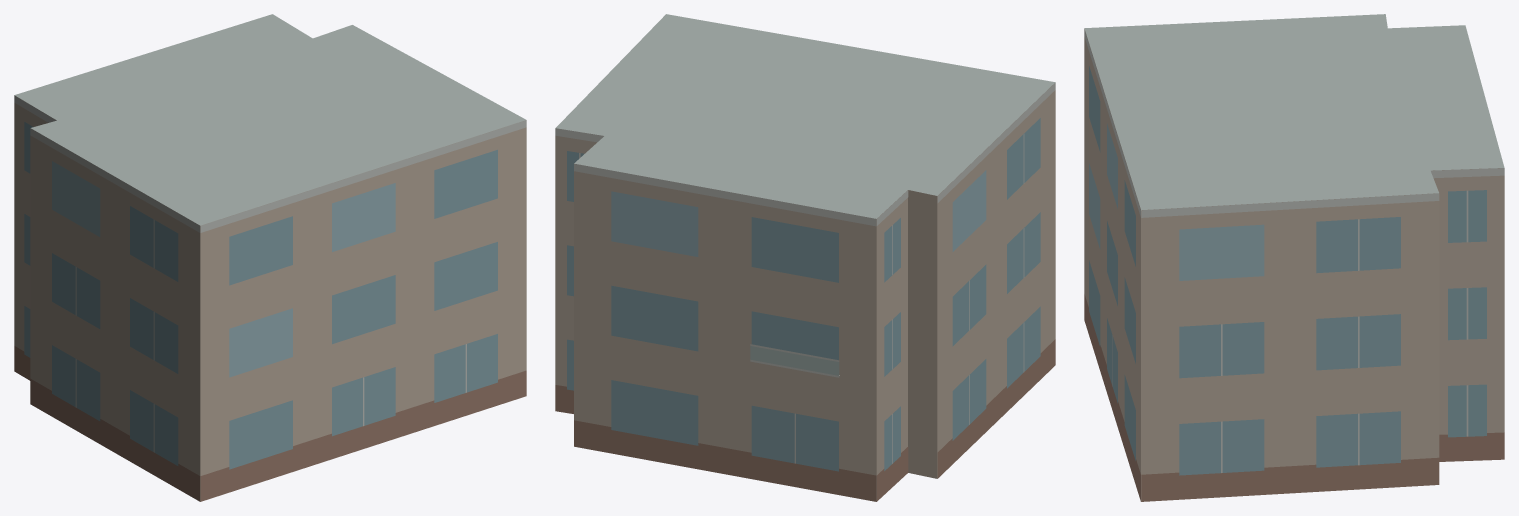
The model's file is survey-upis-32946276.glb.
3 views of the same model, side by side, from view 1: azimuth 30°, elevation 25°; view 2: azimuth 150°, elevation 25°; view 3: azimuth 270°, elevation 25° (orthographic). The views are drawn at different scales.
Parts seen in each view (by area): view 1: survey-upis-32946276.tmp; view 2: survey-upis-32946276.tmp; view 3: survey-upis-32946276.tmp.
Boxes of the visible parts, x1,y1,x2,y2 form: survey-upis-32946276.tmp: (14,14,526,501); survey-upis-32946276.tmp: (555,14,1055,501); survey-upis-32946276.tmp: (1084,14,1504,501).
Bounding box in the file's own units: 13.2 × 9.15 × 11.96.
